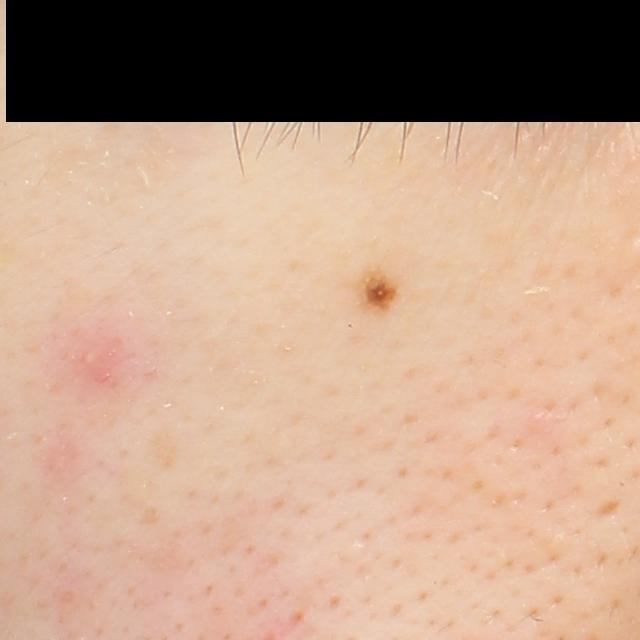atrophic_scar: (584, 496, 627, 523)
nevus: (355, 266, 411, 326)
